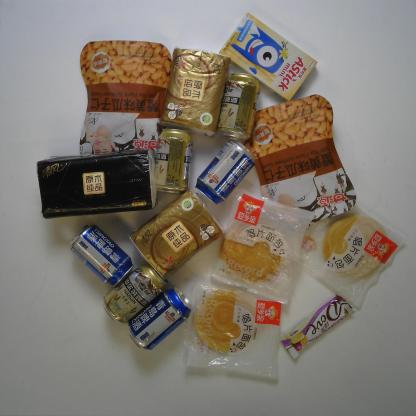Alcohol: (126, 284, 194, 351), (68, 222, 134, 289), (194, 138, 258, 206), (100, 263, 169, 326), (217, 72, 262, 142), (154, 127, 194, 195)
Chocolate: (276, 294, 356, 362)
Dessert: (208, 186, 317, 308), (294, 203, 409, 313), (181, 282, 283, 382), (219, 11, 318, 102)
Dried Fruit: (244, 94, 358, 229), (76, 39, 172, 166)
Tissue: (126, 190, 225, 282), (34, 148, 158, 219), (157, 46, 231, 138)
